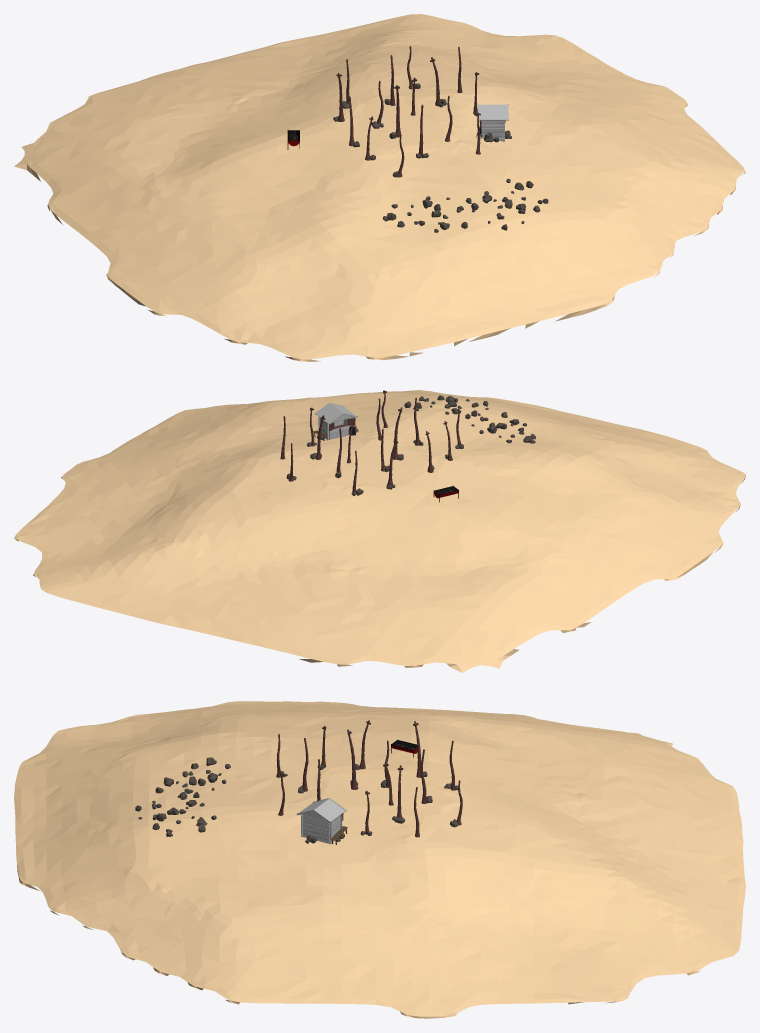
The model's file is Combined Mesh (root_ scene)_2.glb.
3 views of the same model, one above another, from view 1: azimuth 30°, elevation 25°; view 2: azimuth 150°, elevation 25°; view 3: azimuth 270°, elevation 25° (orthographic). The views are drawn at different scales.
Visible parts, largest first — view 1: Combined Mesh (root_ scene)_2; view 2: Combined Mesh (root_ scene)_2; view 3: Combined Mesh (root_ scene)_2.
Boxes of the visible parts, left/top/right/bottom form: Combined Mesh (root_ scene)_2: left=14, top=14, right=745, bottom=361; Combined Mesh (root_ scene)_2: left=14, top=390, right=745, bottom=672; Combined Mesh (root_ scene)_2: left=14, top=701, right=745, bottom=1018.
Size of the model in its own units: 69.83 by 13.33 by 68.45.
Materials: 1 (1 with a texture image).
